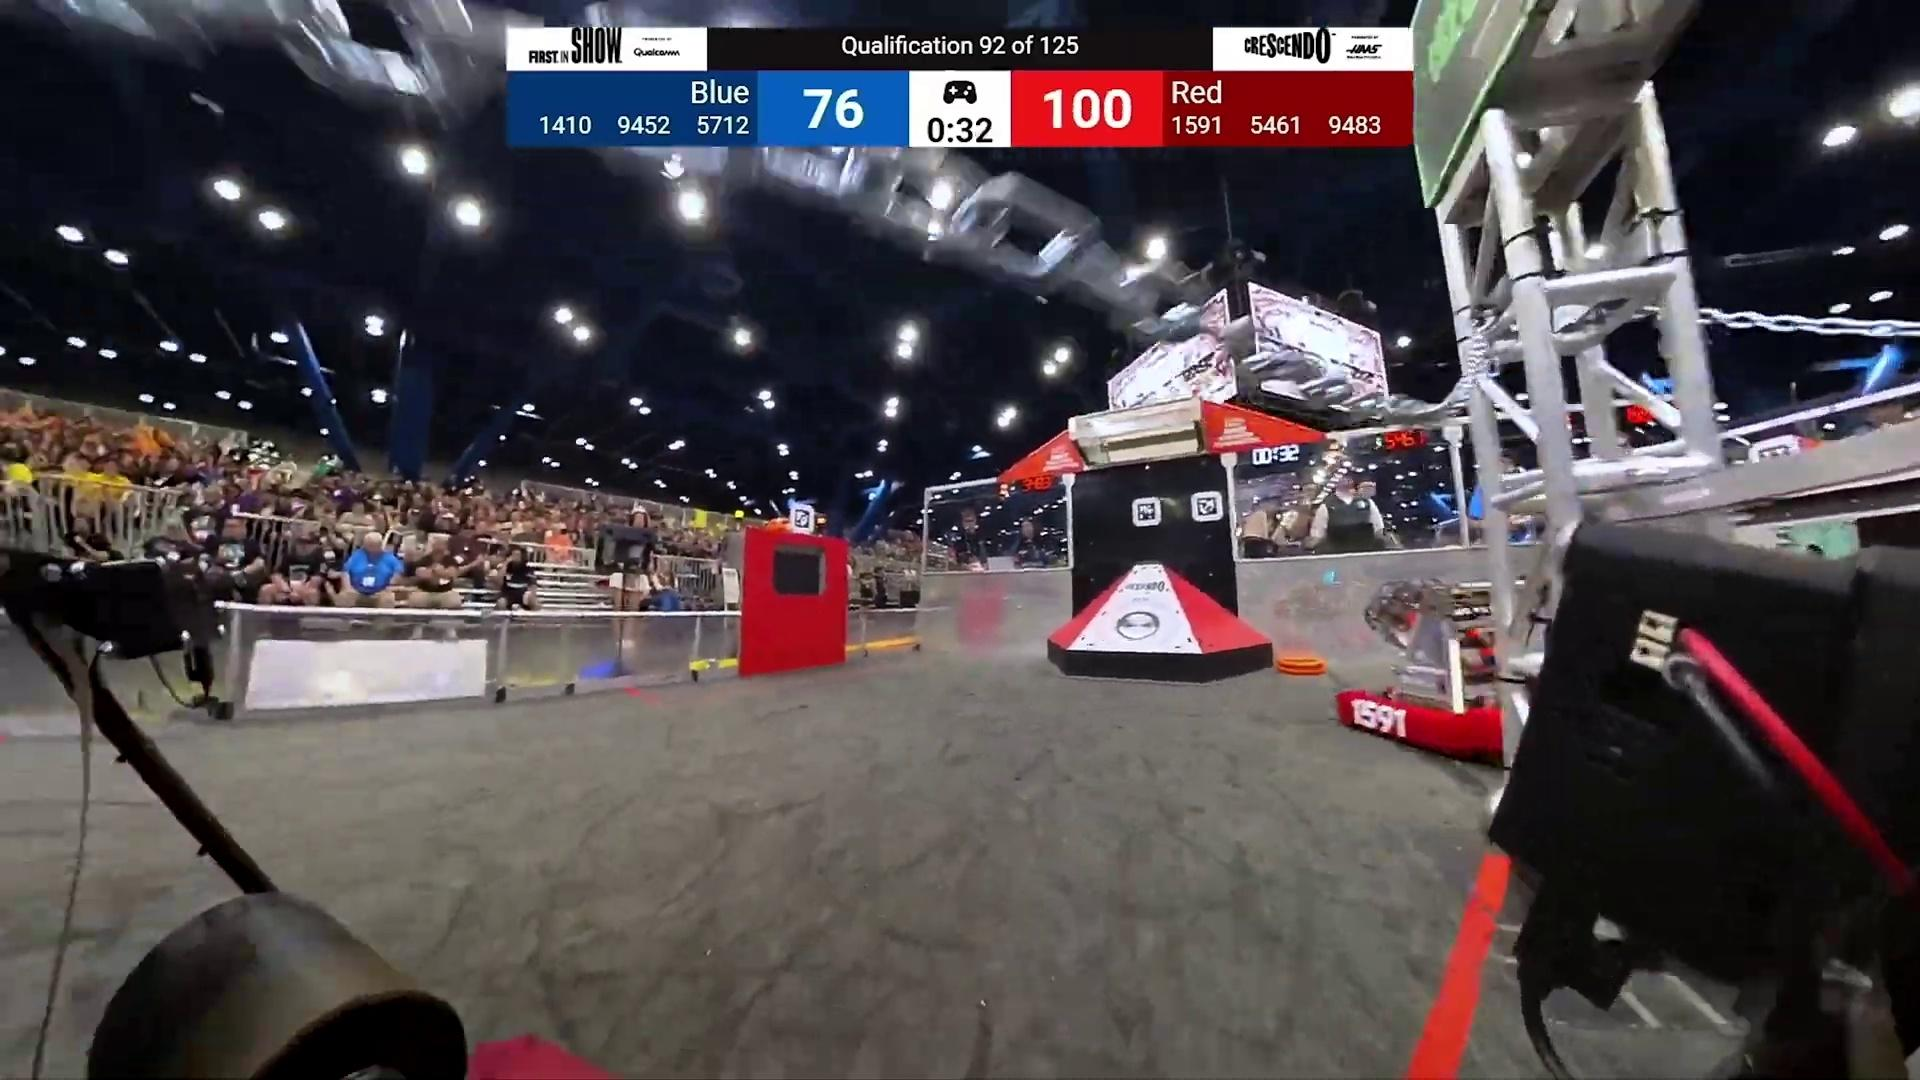robot: (1337, 578, 1505, 757)
